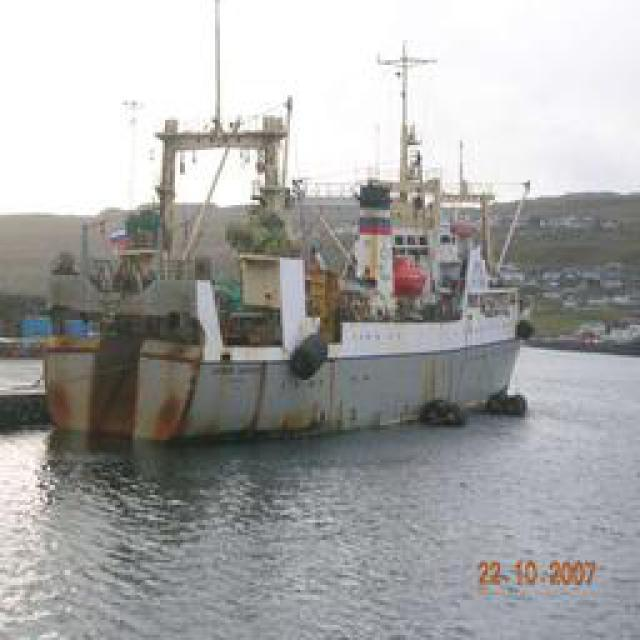Ship: (42, 65, 525, 453)
